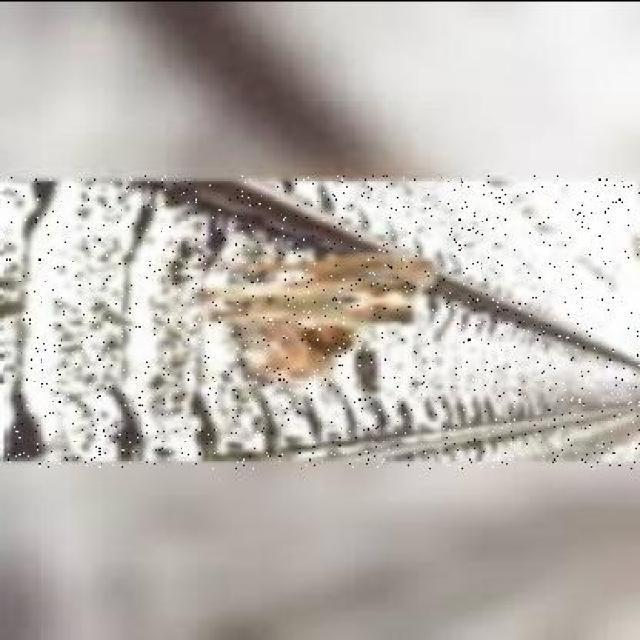danger: (209, 243, 448, 400)
rail: (6, 175, 639, 468)
